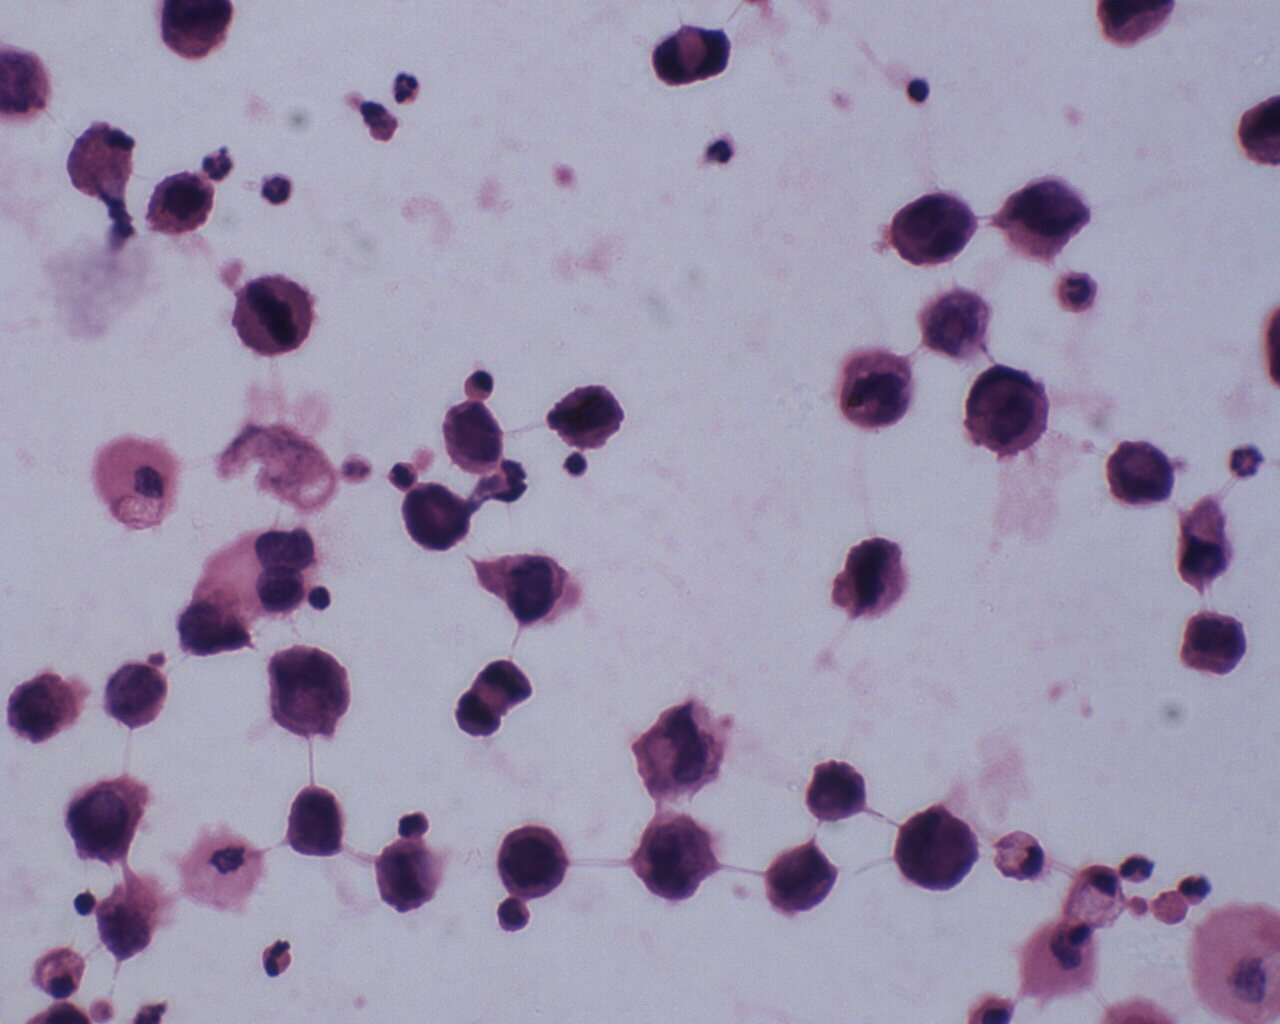ab: (1000, 173, 1094, 269), (265, 637, 354, 736), (961, 362, 1050, 459), (60, 772, 149, 867), (630, 814, 719, 908), (891, 798, 978, 893), (831, 345, 918, 438), (231, 270, 323, 357), (889, 185, 978, 267), (1106, 430, 1183, 510), (548, 380, 627, 457), (497, 823, 575, 900), (767, 836, 837, 920), (7, 667, 83, 744), (1180, 609, 1253, 682), (444, 394, 508, 478), (400, 482, 472, 555), (104, 657, 171, 735), (147, 171, 222, 239), (805, 748, 870, 824), (284, 782, 344, 864)
histo: (1068, 860, 1127, 928), (34, 942, 90, 1001), (994, 823, 1044, 883)
lymph: (1228, 439, 1266, 481), (263, 935, 295, 977)
neutro: (1055, 262, 1103, 315), (1177, 870, 1216, 912), (1120, 850, 1160, 886), (202, 145, 236, 183), (387, 70, 421, 106), (262, 169, 293, 208)
